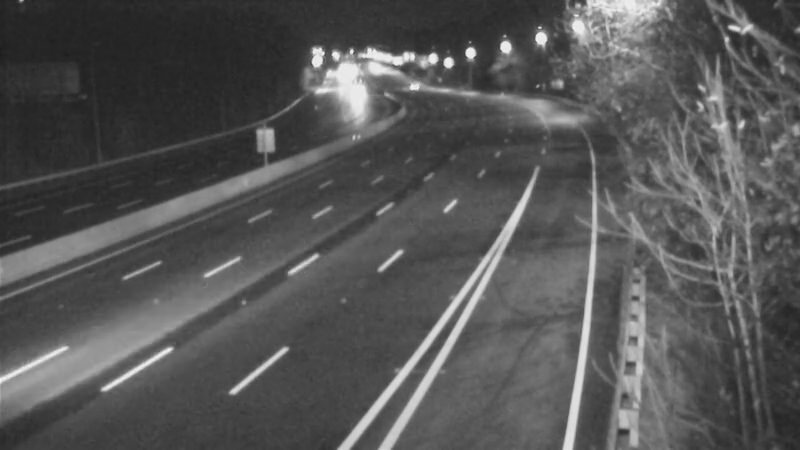vehicle: (389, 61, 439, 111), (327, 74, 377, 124)
